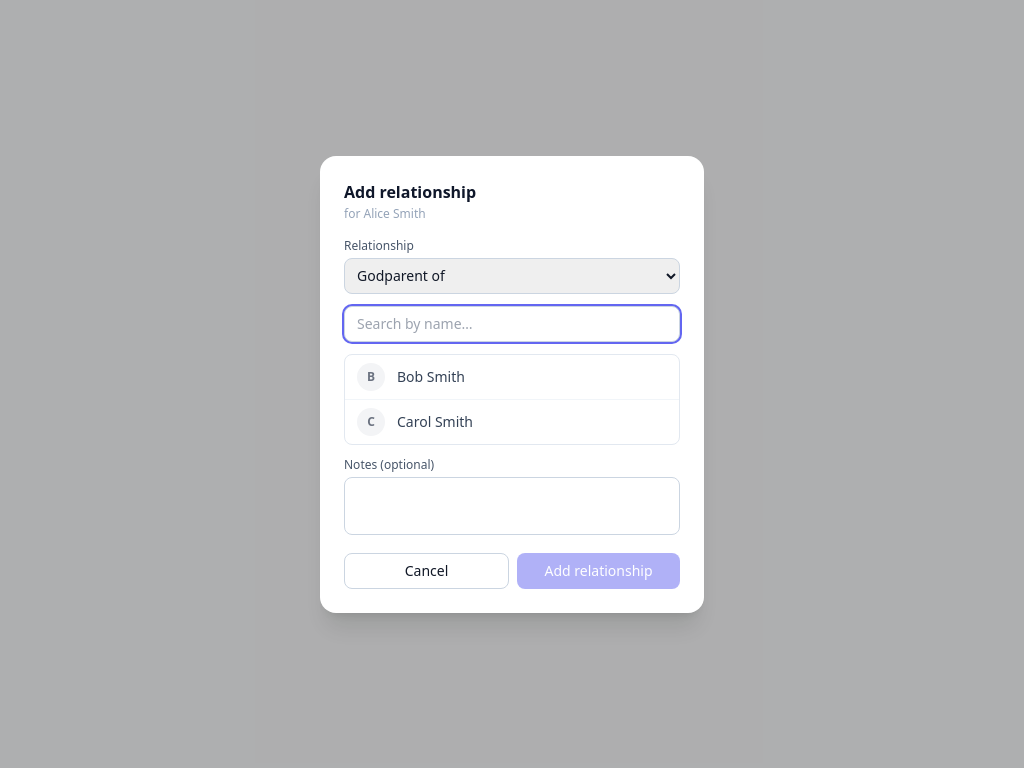
Test: AddRelationshipModal › shows the server error message and keeps the modal open on failure
The width and height of the screenshot is (1024, 768).
What coordinates should you click on to do the following:
click the text "Bob Smith"
I would click on:
 (431, 376)
Its box is [397, 366, 465, 386].
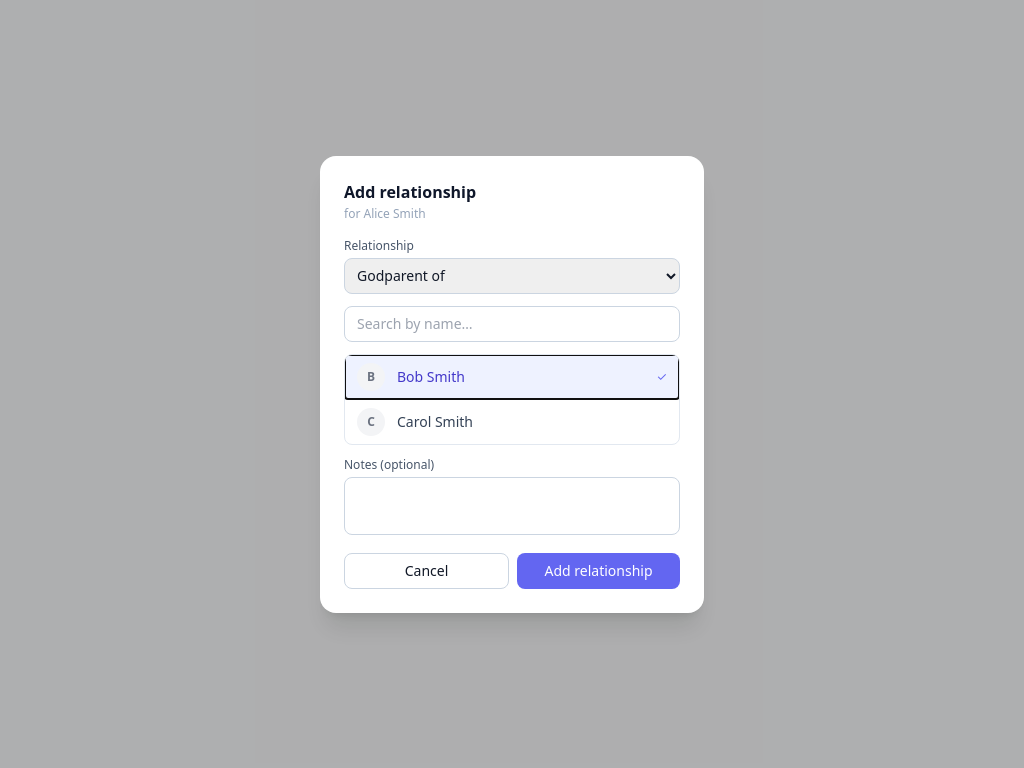
What coordinates should you click on to do the following:
click the button "Add relationship"
I would click on:
 (598, 570)
Its box is [517, 552, 680, 588].
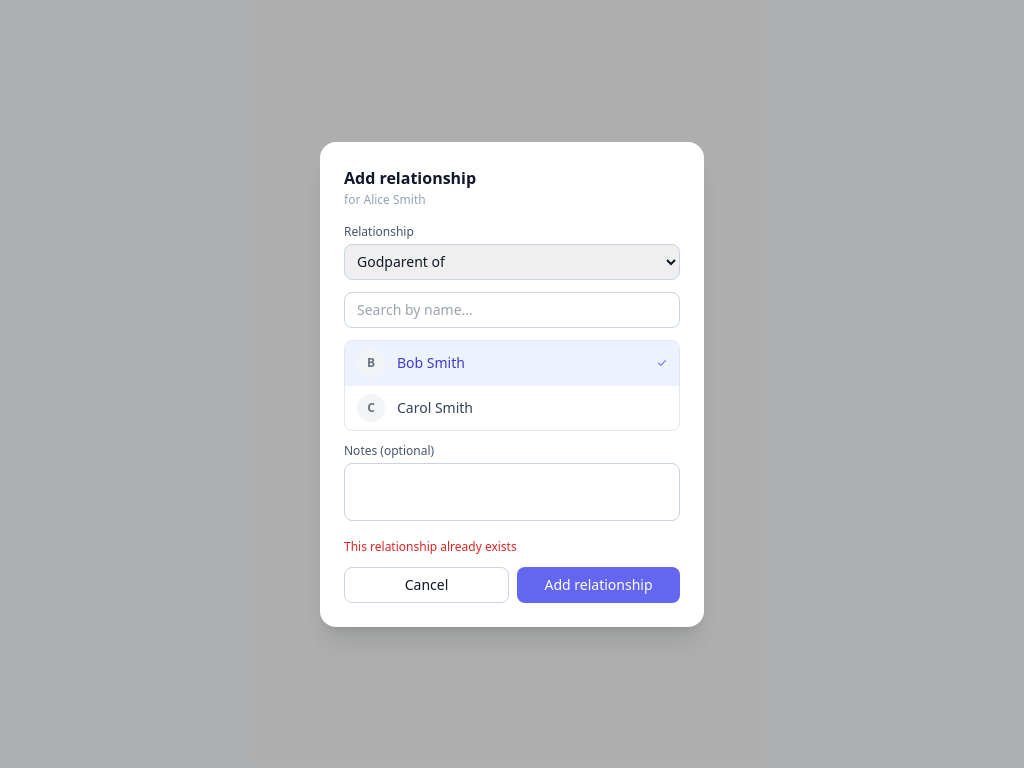
Check: the text "This relationship already exists" is shown, box [344, 538, 517, 554]
